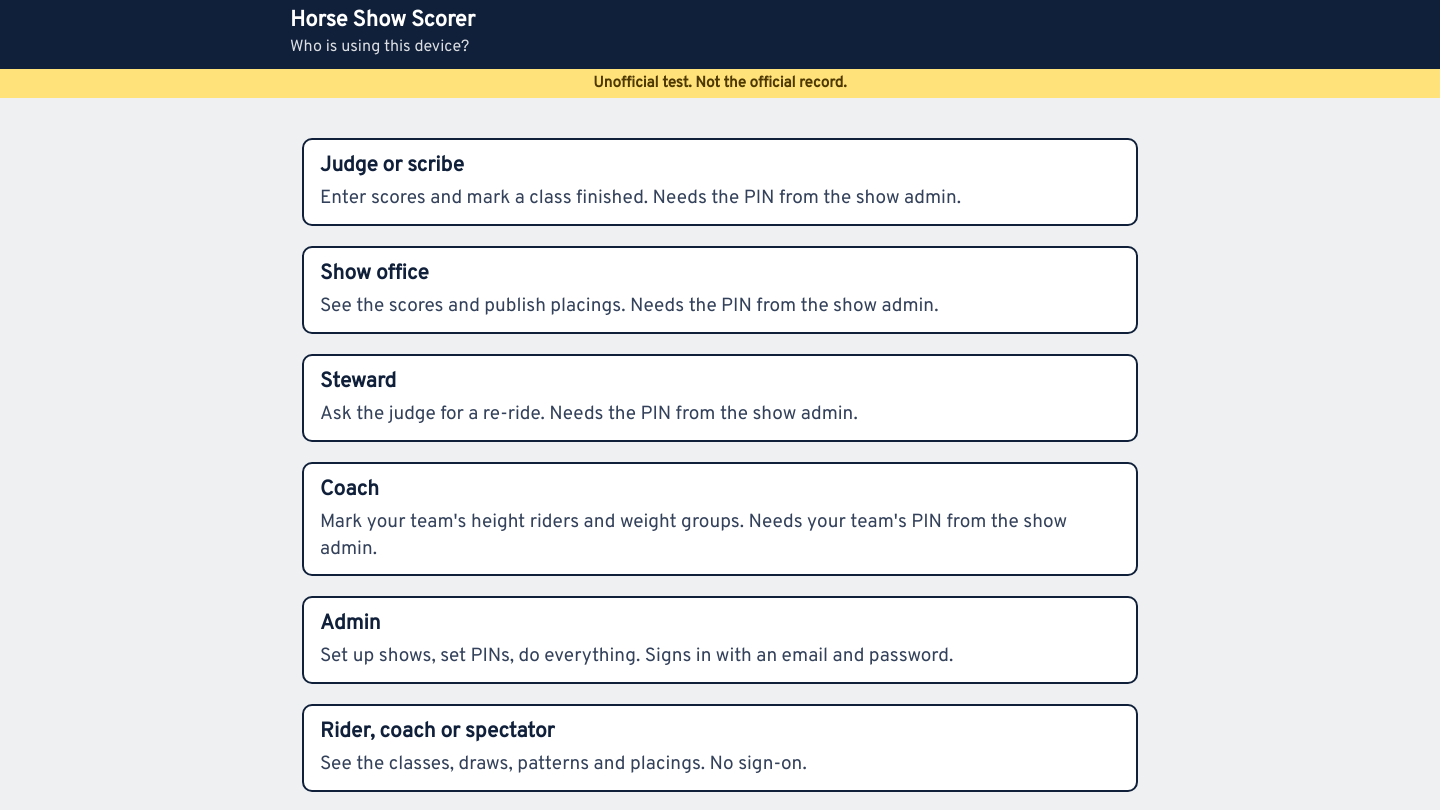
a coach › changes their PIN later, with the one they have
Click the button "Coach" at (720, 519), box [302,462,1138,576]
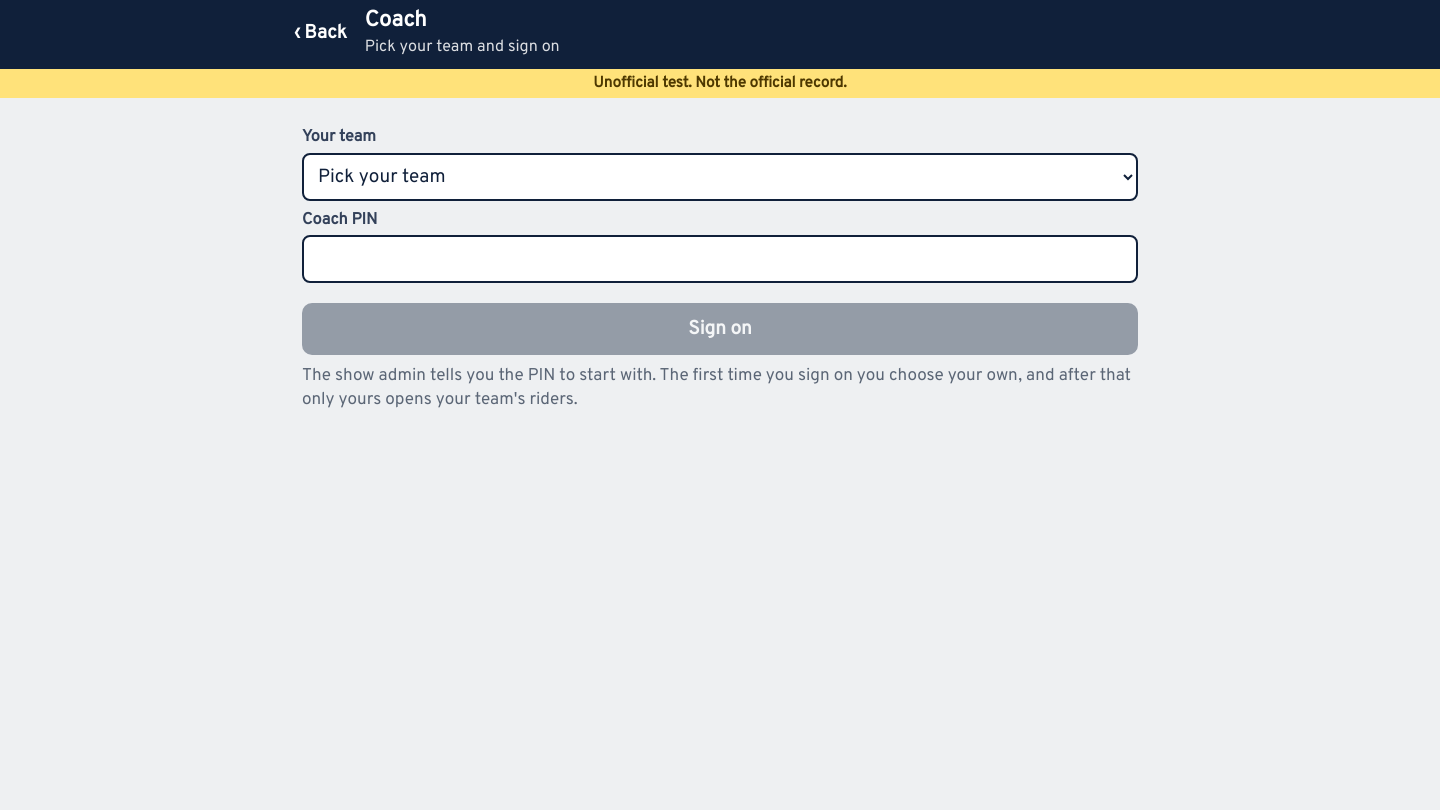
Select "Example College" in the dropdown labelled "Your team" at (720, 177), box [302,153,1138,201]
Type "2468" into the password field labelled "Coach PIN" at (720, 259), box [302,235,1138,283]
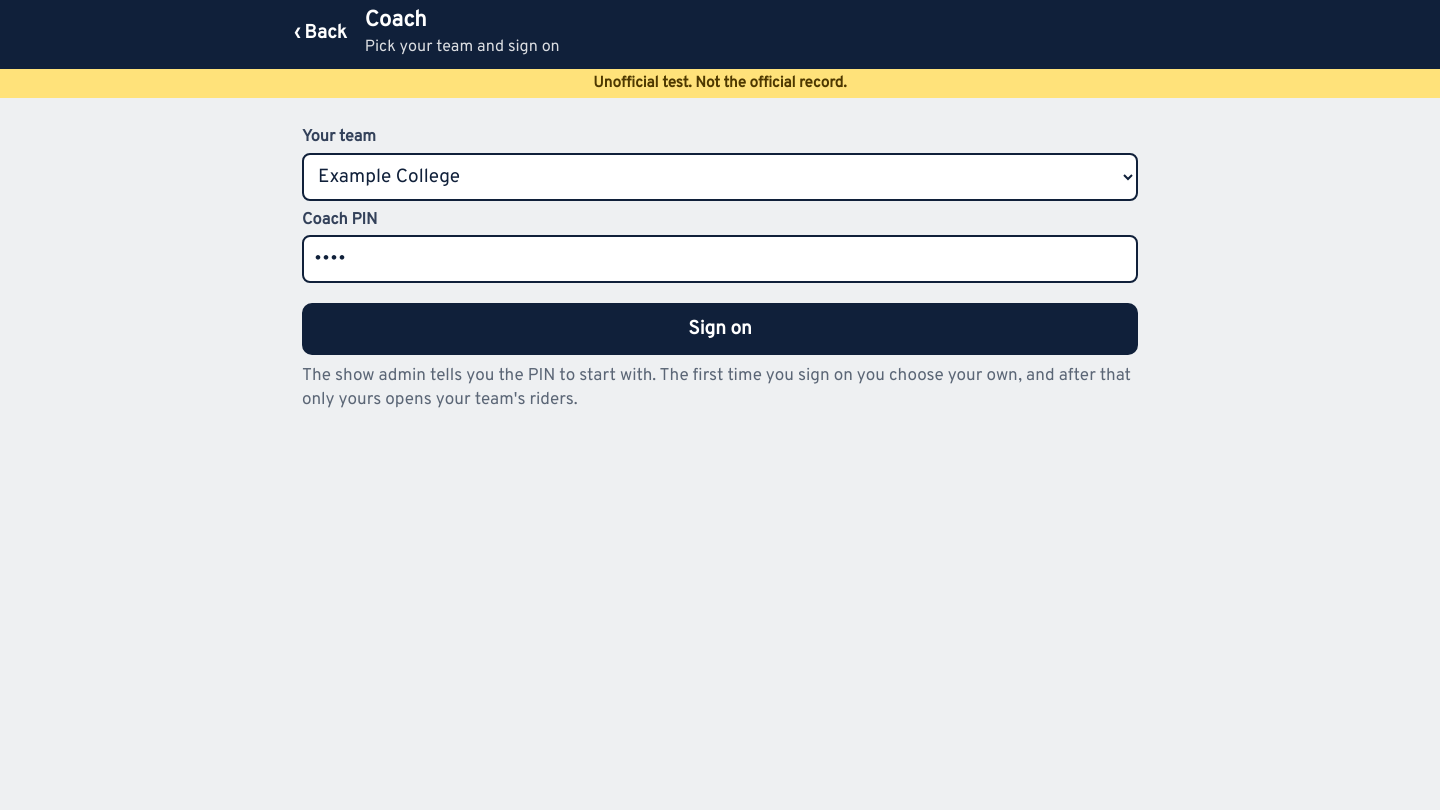
Click the button "Sign on" at (720, 329), box [302,303,1138,355]
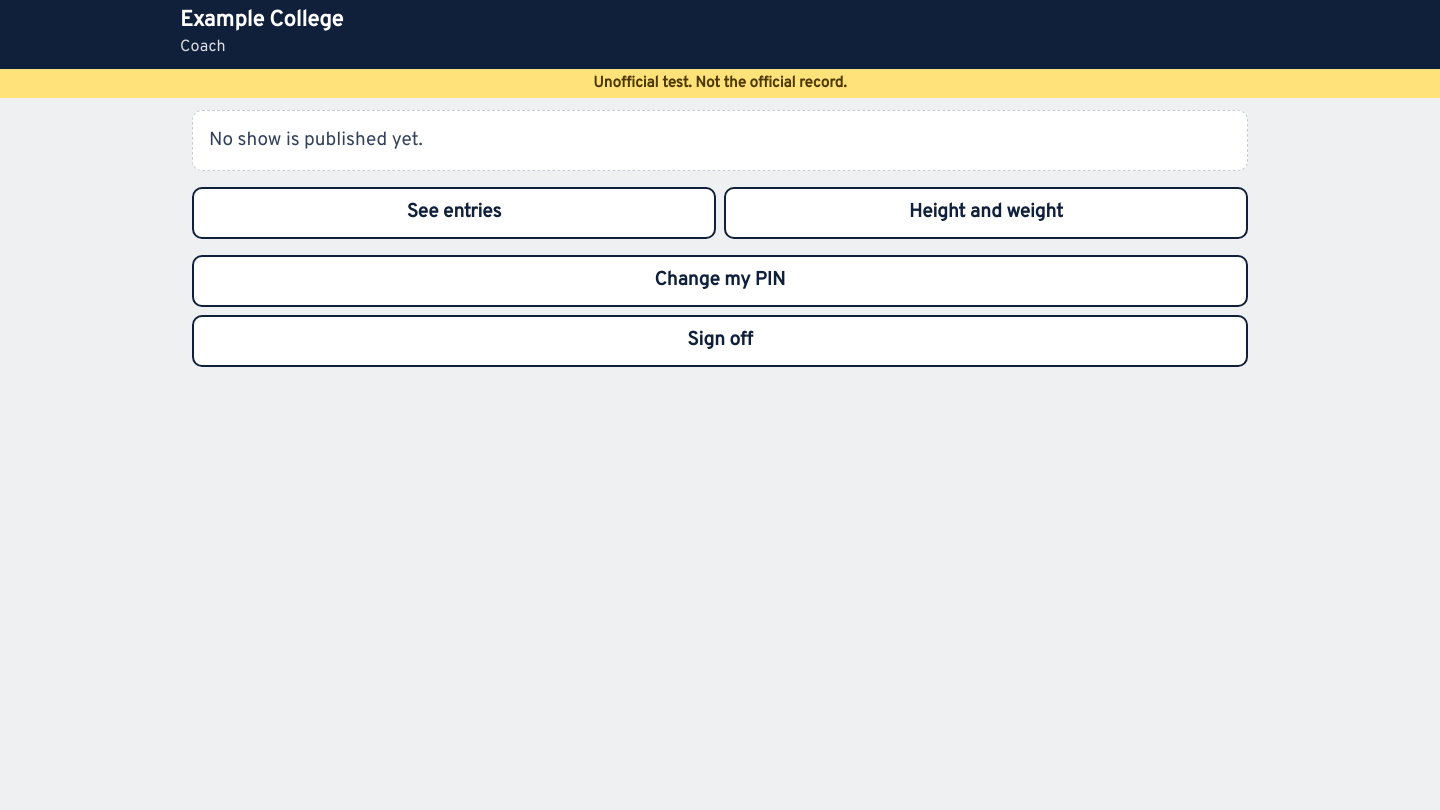
Click the button "Change my PIN" at (720, 281), box [192,255,1248,307]
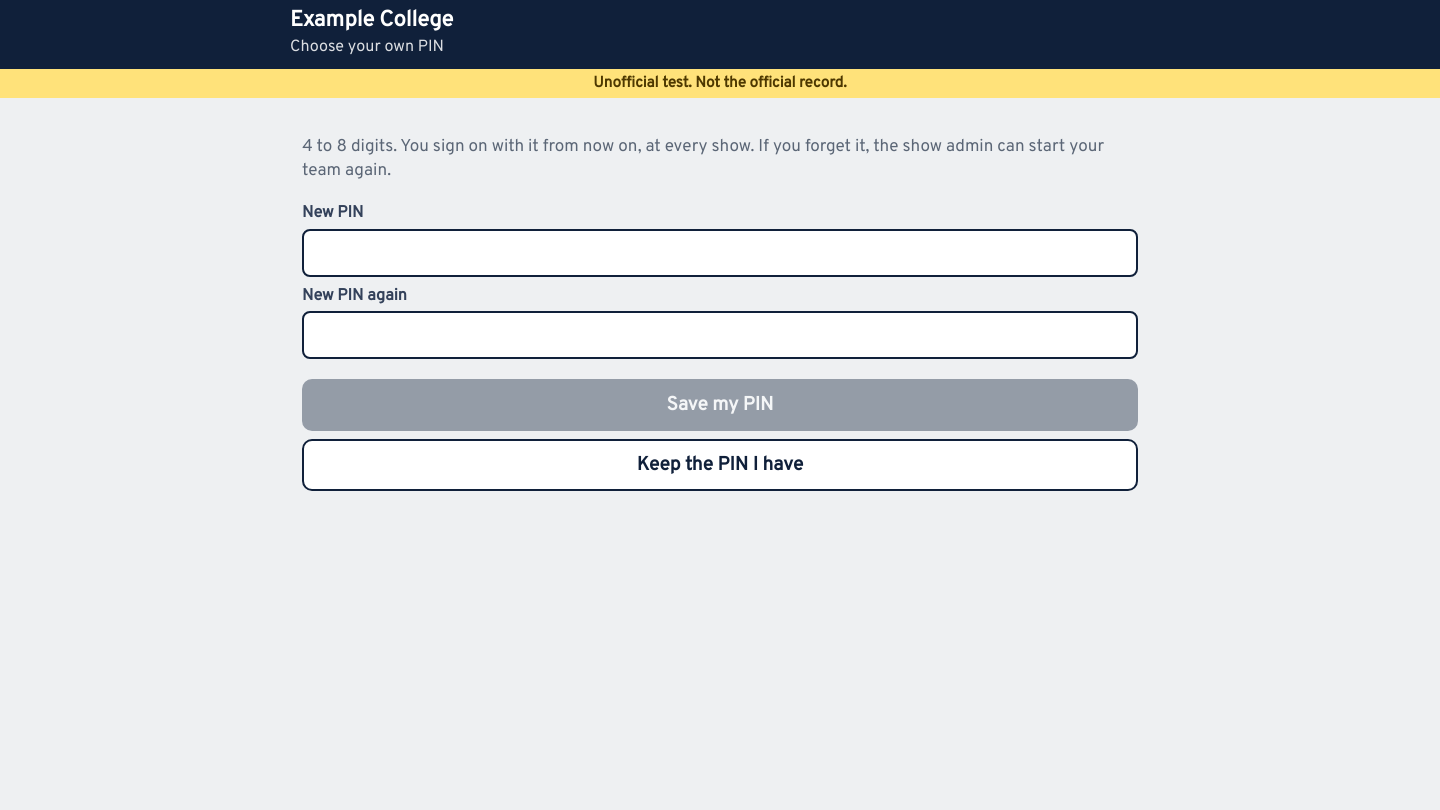
Type "864200" into the password field labelled "New PIN" at (720, 252), box [302,228,1138,276]
Type "864200" into the password field labelled "New PIN again" at (720, 335), box [302,311,1138,359]
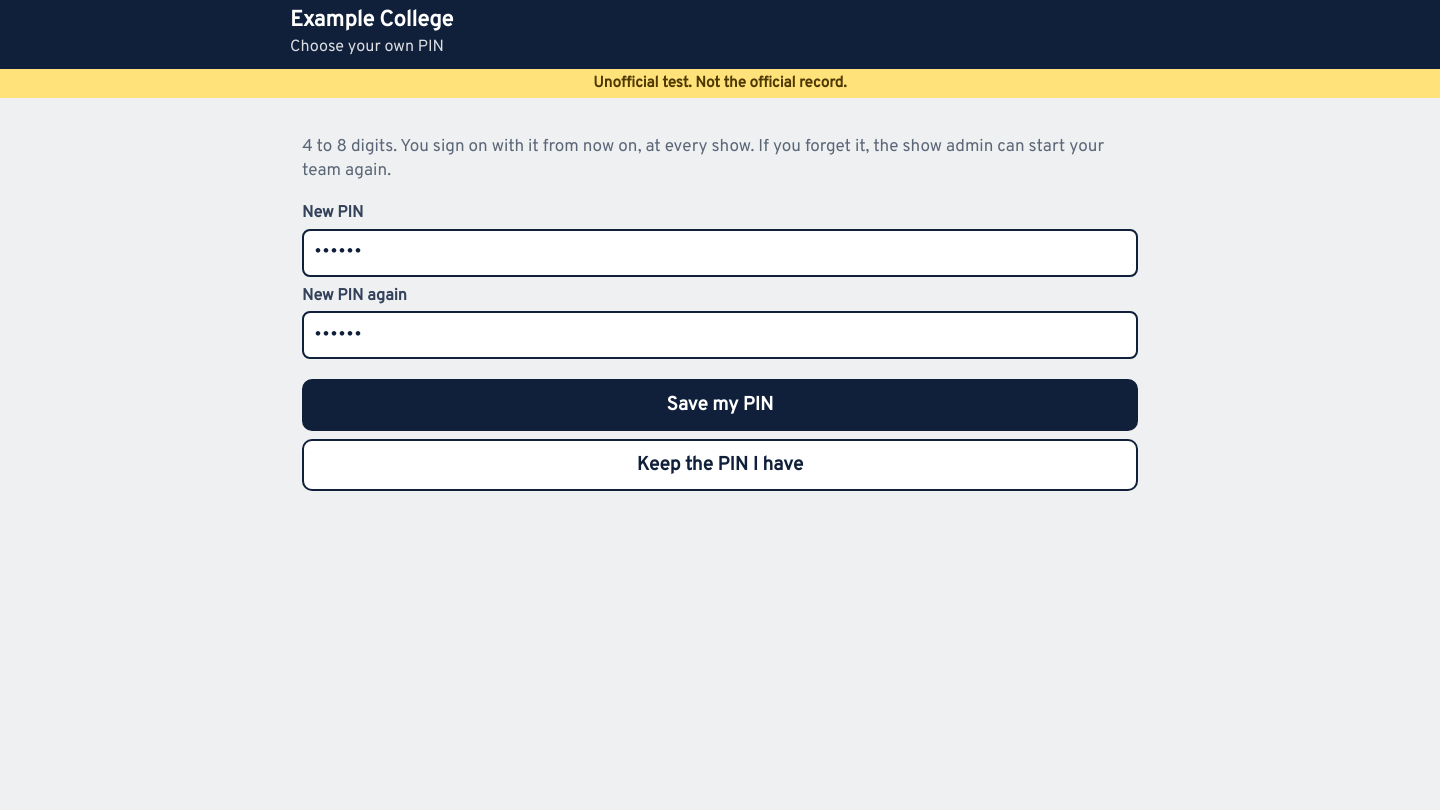
Click the button "Save my PIN" at (720, 405), box [302,379,1138,431]
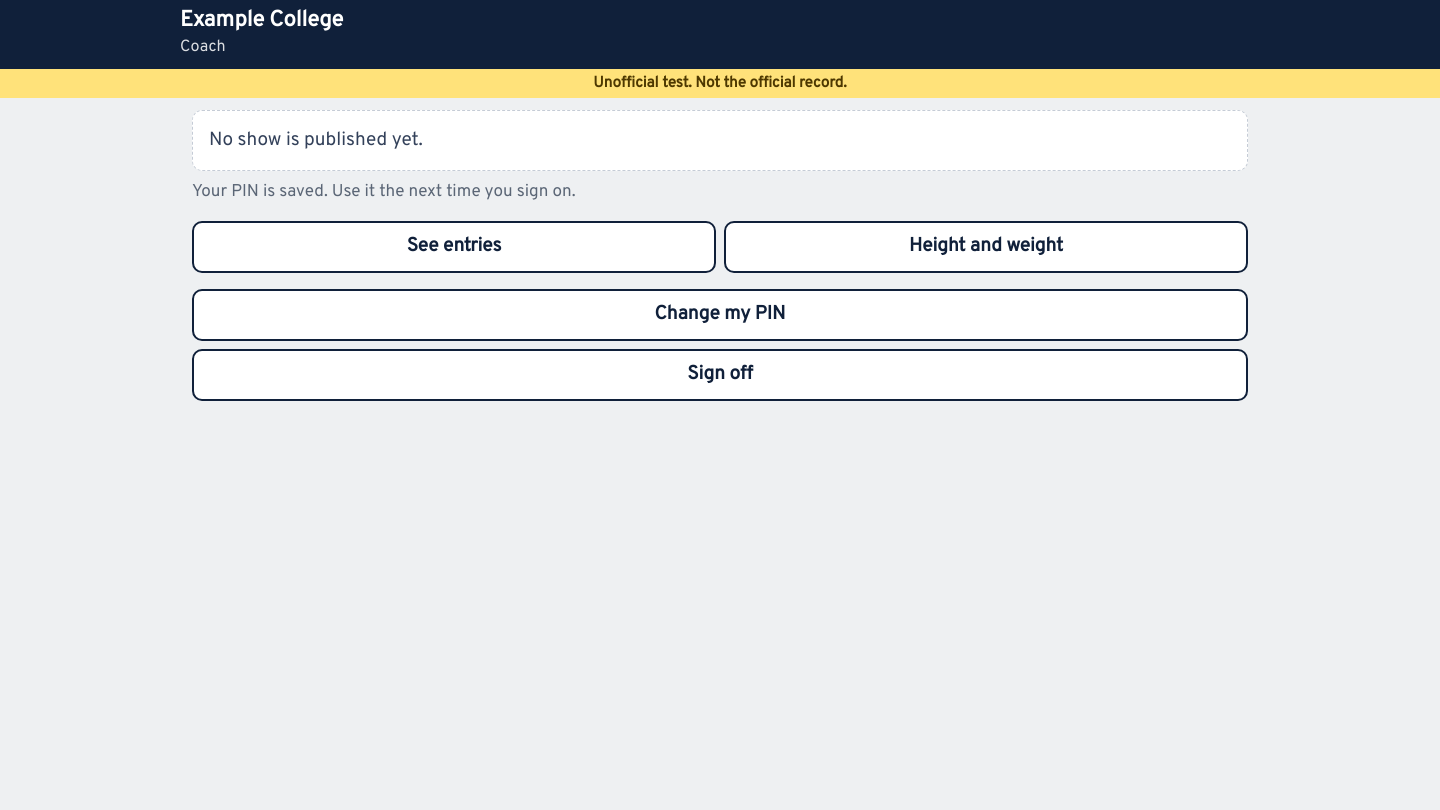
Now the heading "Example College" is shown, box [180,8,343,34]
Now the text "Your PIN is saved. Use it the next time you sign on." is shown, box [192,181,576,203]
